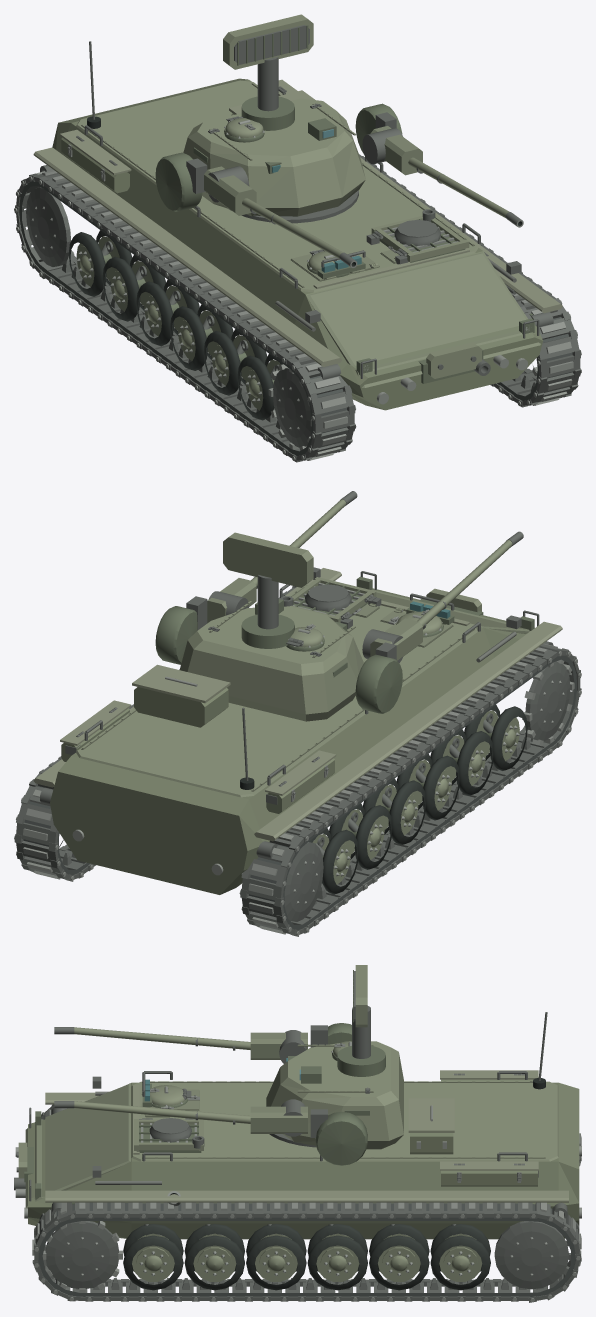
The model's file is spheres-ground-air-defense.glb.
3 views of the same model, one above another, from view 1: azimuth 30°, elevation 25°; view 2: azimuth 150°, elevation 25°; view 3: azimuth 270°, elevation 25° (orthographic). The views are drawn at different scales.
Visible parts, largest first — view 1: Spheres mobile air defense; view 2: Spheres mobile air defense; view 3: Spheres mobile air defense.
Boxes of the visible parts, left/top/right/bottom form: Spheres mobile air defense: left=14, top=14, right=581, bottom=462; Spheres mobile air defense: left=14, top=491, right=581, bottom=936; Spheres mobile air defense: left=14, top=965, right=581, bottom=1302.
Bounding box in the file's own units: 3.25 × 3.35 × 6.56.
